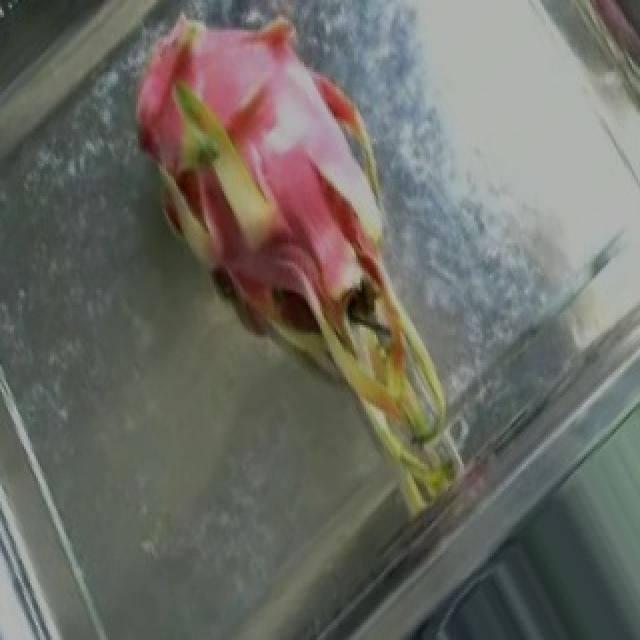fruit: (52, 3, 454, 434)
